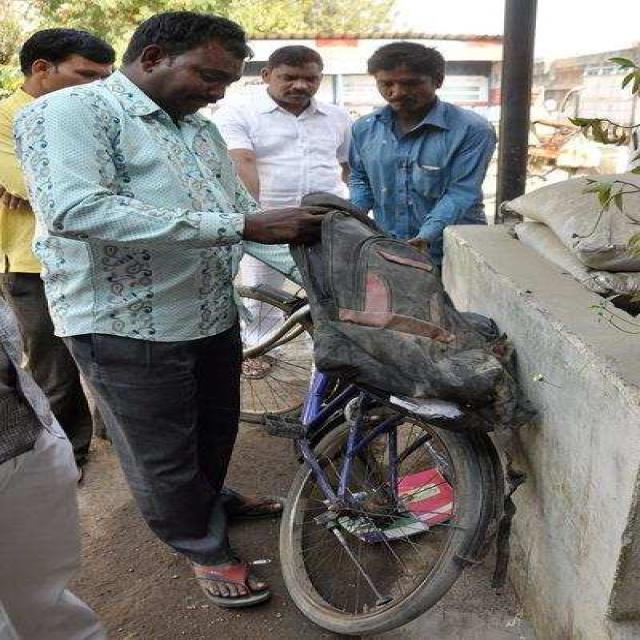bicycle: (238, 194, 515, 634)
